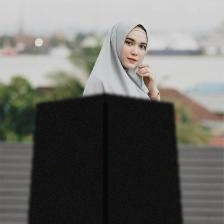Cadar_Niqab: (28, 12, 182, 224)
